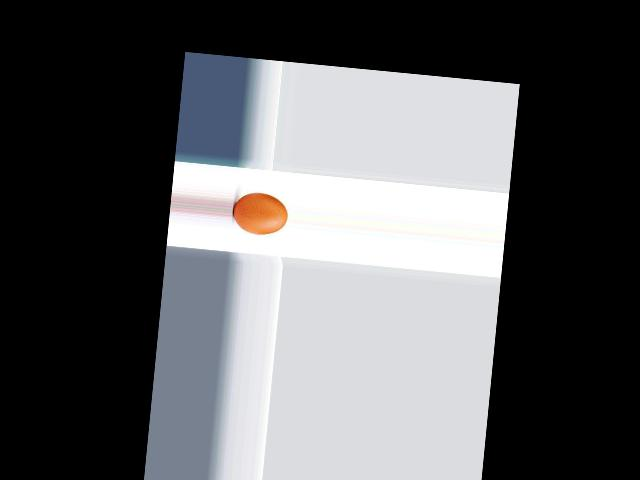egg: (231, 190, 288, 236)
